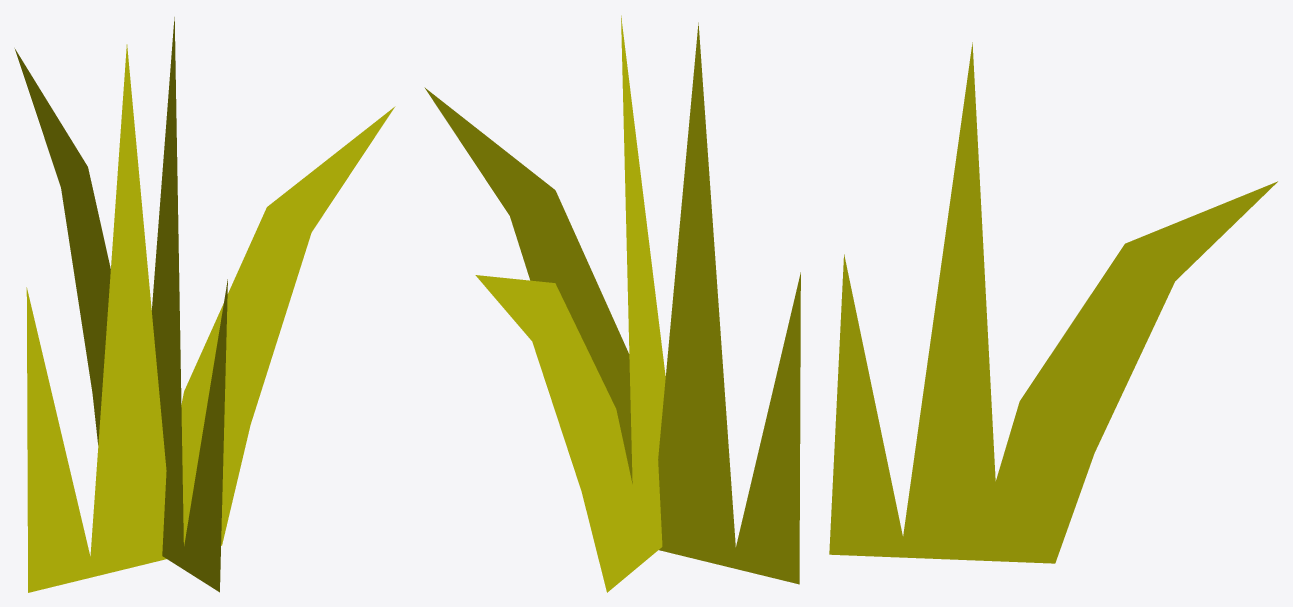
3 renders of one model, left to right at view 1: azimuth 30°, elevation 25°; view 2: azimuth 150°, elevation 25°; view 3: azimuth 270°, elevation 25°, orthographic. The views are drawn at different scales.
Visible parts, largest first — view 1: gran; view 2: gran; view 3: gran.
Part boxes in pixels (bbox=[...]): gran: bbox=[14, 17, 395, 592]; gran: bbox=[424, 15, 800, 592]; gran: bbox=[829, 42, 1277, 563].
Size of the model in its own units: 0.4963 by 0.6815 by 0.5184.
1 material, 1 textured.
